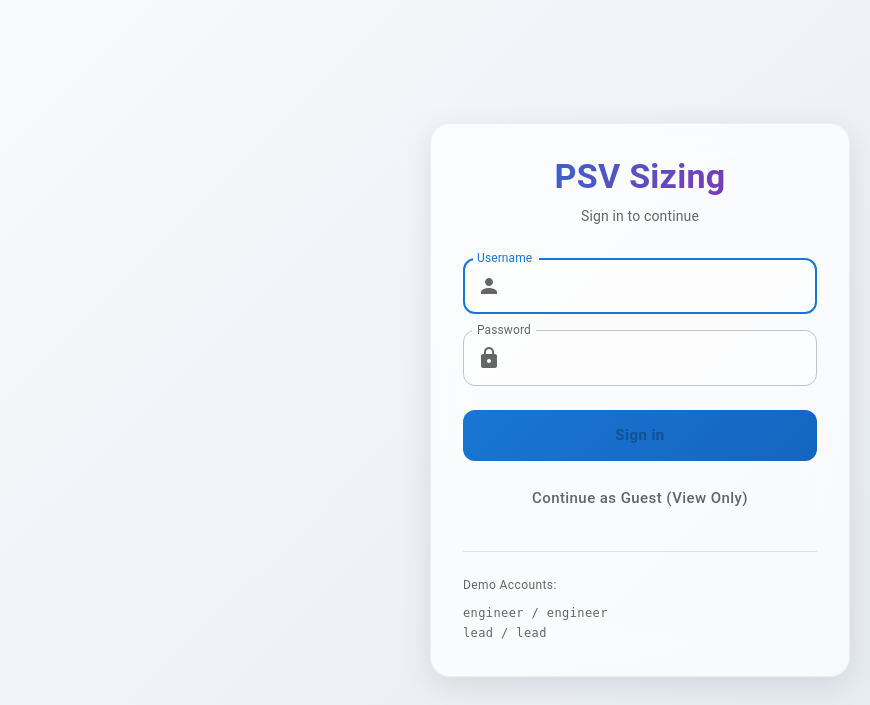
Test: LoginPage › disables submit button when fields are empty
Expected: the button "Sign in" is disabled, [463,410,817,461]
In the field labelled "Username": x=663, y=286 [509,258,817,314], type "testuser"
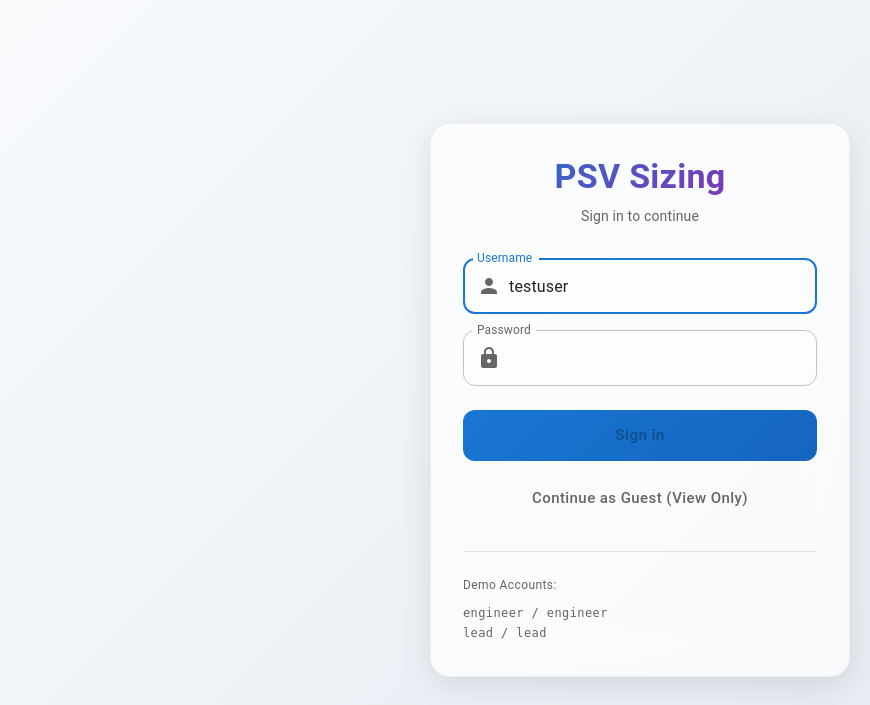
Expected: the button "Sign in" is disabled, [463,410,817,461]
In the password field labelled "Password": x=663, y=358 [509,330,817,386], type "testpass"
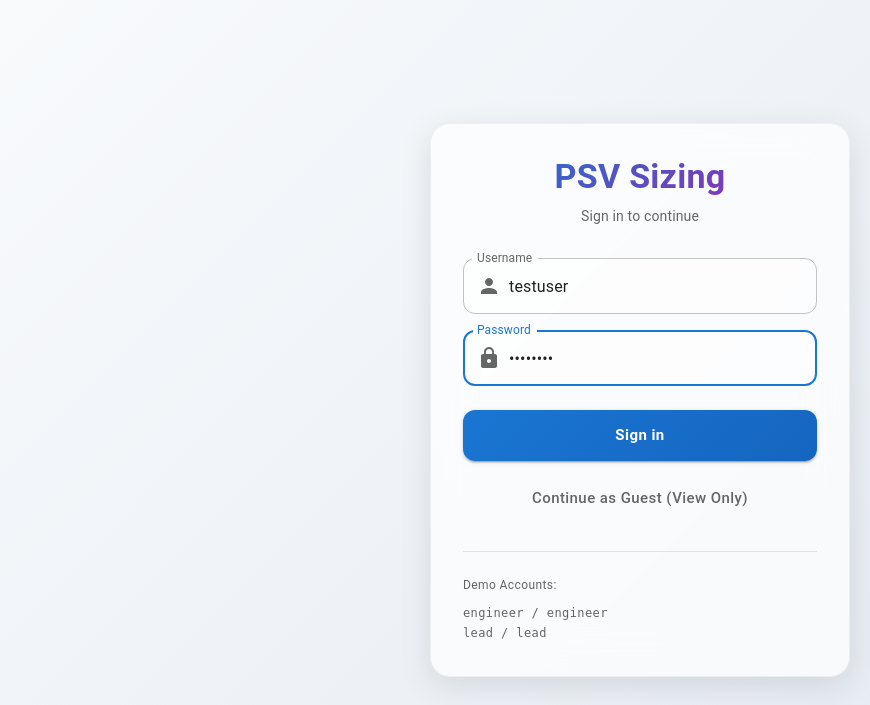
Result: the button "Sign in" is enabled at [463,410,817,461]
